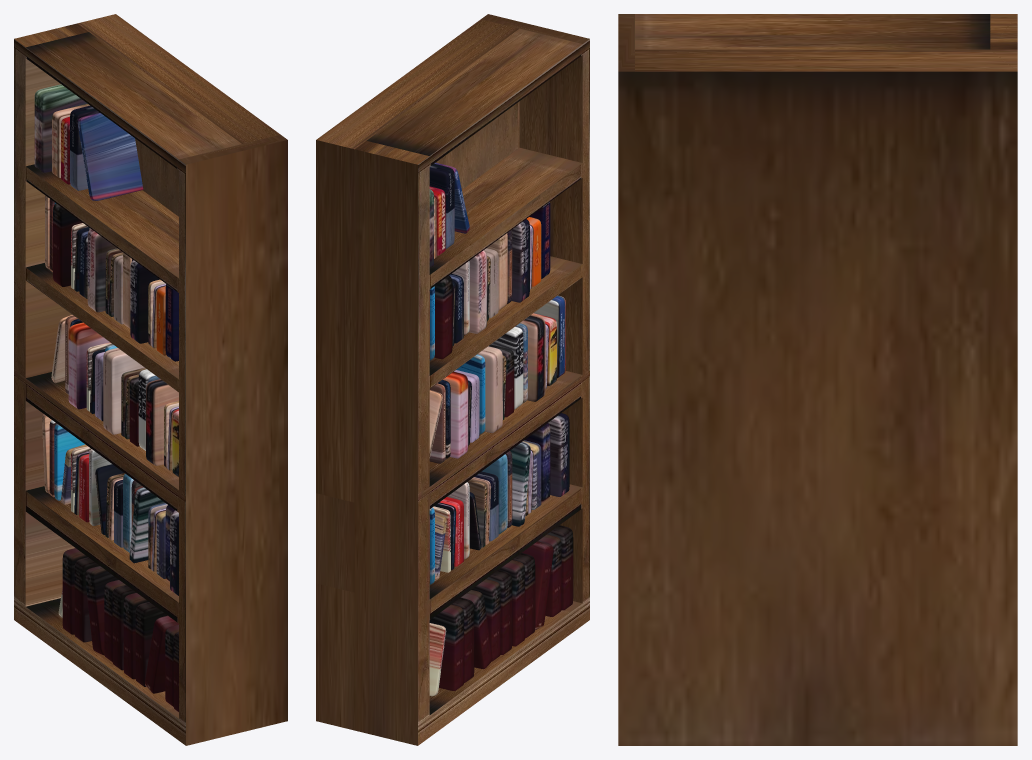
File: bookshelf.glb
3 views of the same model, side by side, from view 1: azimuth 30°, elevation 25°; view 2: azimuth 150°, elevation 25°; view 3: azimuth 270°, elevation 25° (orthographic). The views are drawn at different scales.
Parts seen in each view (by area): view 1: Object_4, Object_5; view 2: Object_4, Object_5; view 3: Object_4.
Part boxes in pixels (x1,y1,x2,y2): Object_4: (14,14,287,745); Object_5: (34,84,178,711); Object_4: (316,14,589,745); Object_5: (429,162,573,696); Object_4: (618,14,1017,745).
Size of the model in its own units: 0.2109 by 1.15 by 0.617.
2 materials, 2 textured.
